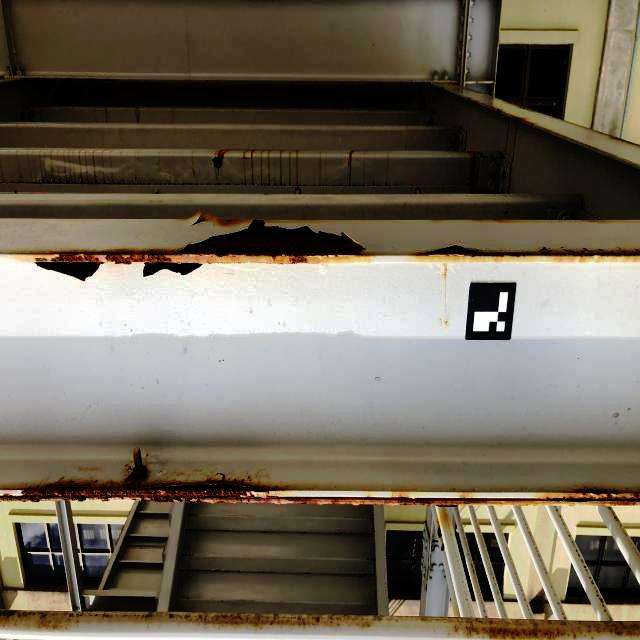Corrosion: (0, 465, 640, 507), (19, 229, 364, 265), (417, 246, 640, 263), (488, 627, 570, 640), (468, 152, 482, 192), (610, 622, 640, 640), (132, 448, 147, 481), (98, 563, 109, 590), (212, 155, 224, 169), (466, 627, 480, 638), (437, 520, 442, 540), (513, 116, 524, 123), (569, 633, 580, 640), (488, 82, 494, 94), (193, 219, 205, 225), (443, 263, 447, 279), (499, 151, 504, 159), (496, 108, 502, 114), (477, 189, 486, 193), (491, 155, 496, 160), (441, 544, 444, 551), (444, 321, 448, 326), (474, 100, 477, 106), (188, 513, 194, 516)
